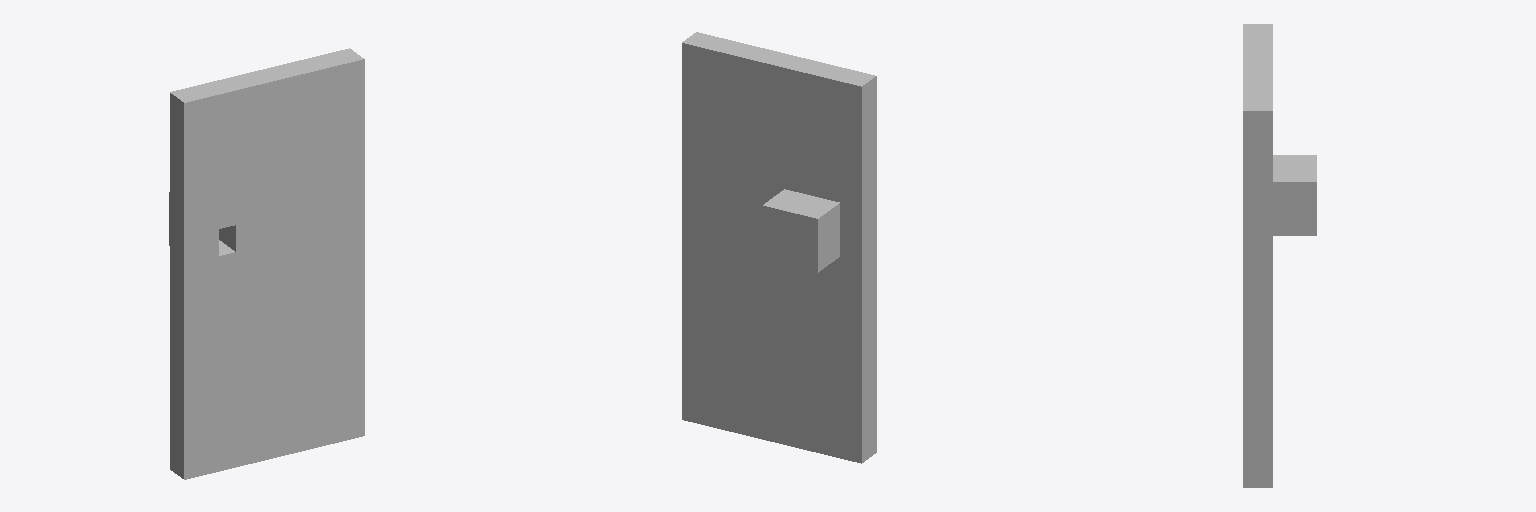
Rendered from door.obj.obj.
3 views of the same model, side by side, from view 1: azimuth 30°, elevation 25°; view 2: azimuth 150°, elevation 25°; view 3: azimuth 270°, elevation 25° (orthographic).
Parts seen in each view (by area): view 1: Mesh1 Model; view 2: Mesh1 Model; view 3: Mesh1 Model.
Boxes of the visible parts, x1=… form: Mesh1 Model: x1=169, y1=48, x2=364, y2=479; Mesh1 Model: x1=682, y1=32, x2=876, y2=463; Mesh1 Model: x1=1243, y1=24, x2=1316, y2=487.
Bounding box in the file's own units: 1.07 × 2.13 × 0.381.